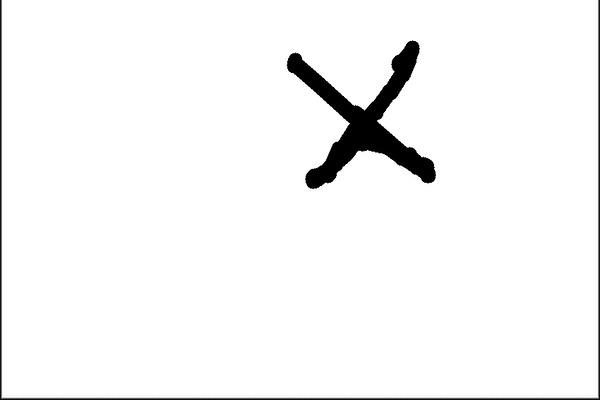X: (266, 32, 457, 197)
